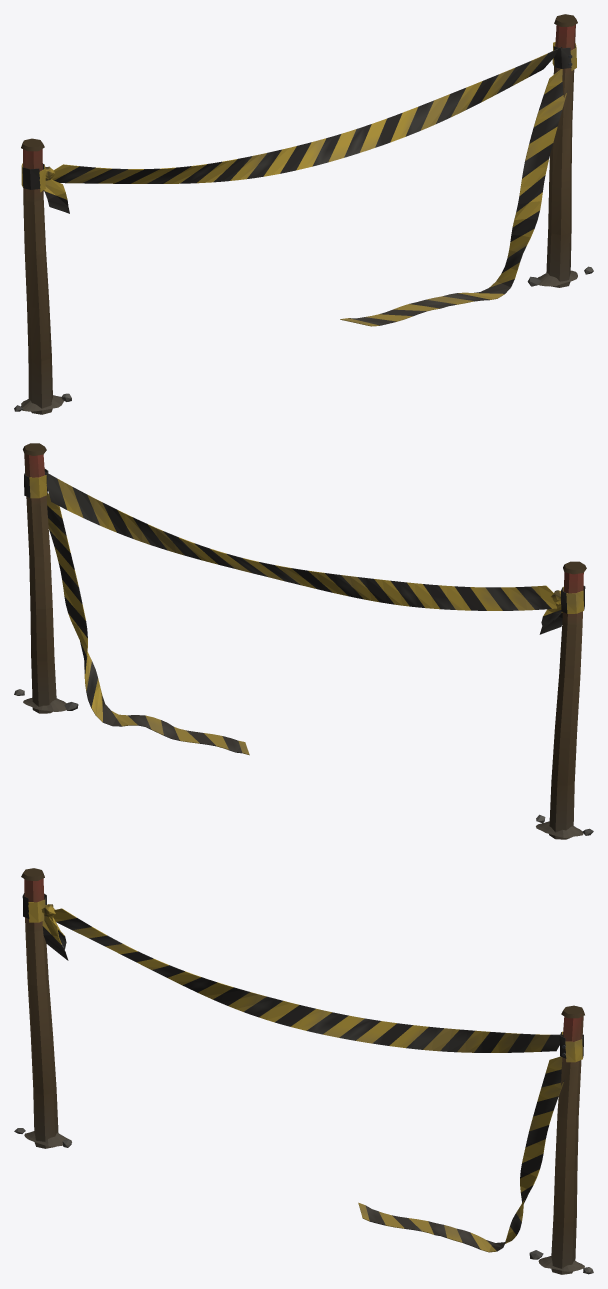
File: hazard_tape.glb
3 views of the same model, one above another, from view 1: azimuth 30°, elevation 25°; view 2: azimuth 150°, elevation 25°; view 3: azimuth 330°, elevation 25° (orthographic).
Visible parts, largest first — view 1: hazard_tape; view 2: hazard_tape; view 3: hazard_tape.
Boxes of the visible parts, x1,y1,x2,y2 form: hazard_tape: [14, 14, 593, 414]; hazard_tape: [14, 443, 593, 839]; hazard_tape: [14, 868, 593, 1274].
Size of the model in its own units: 2.02 by 0.9034 by 0.0981.
